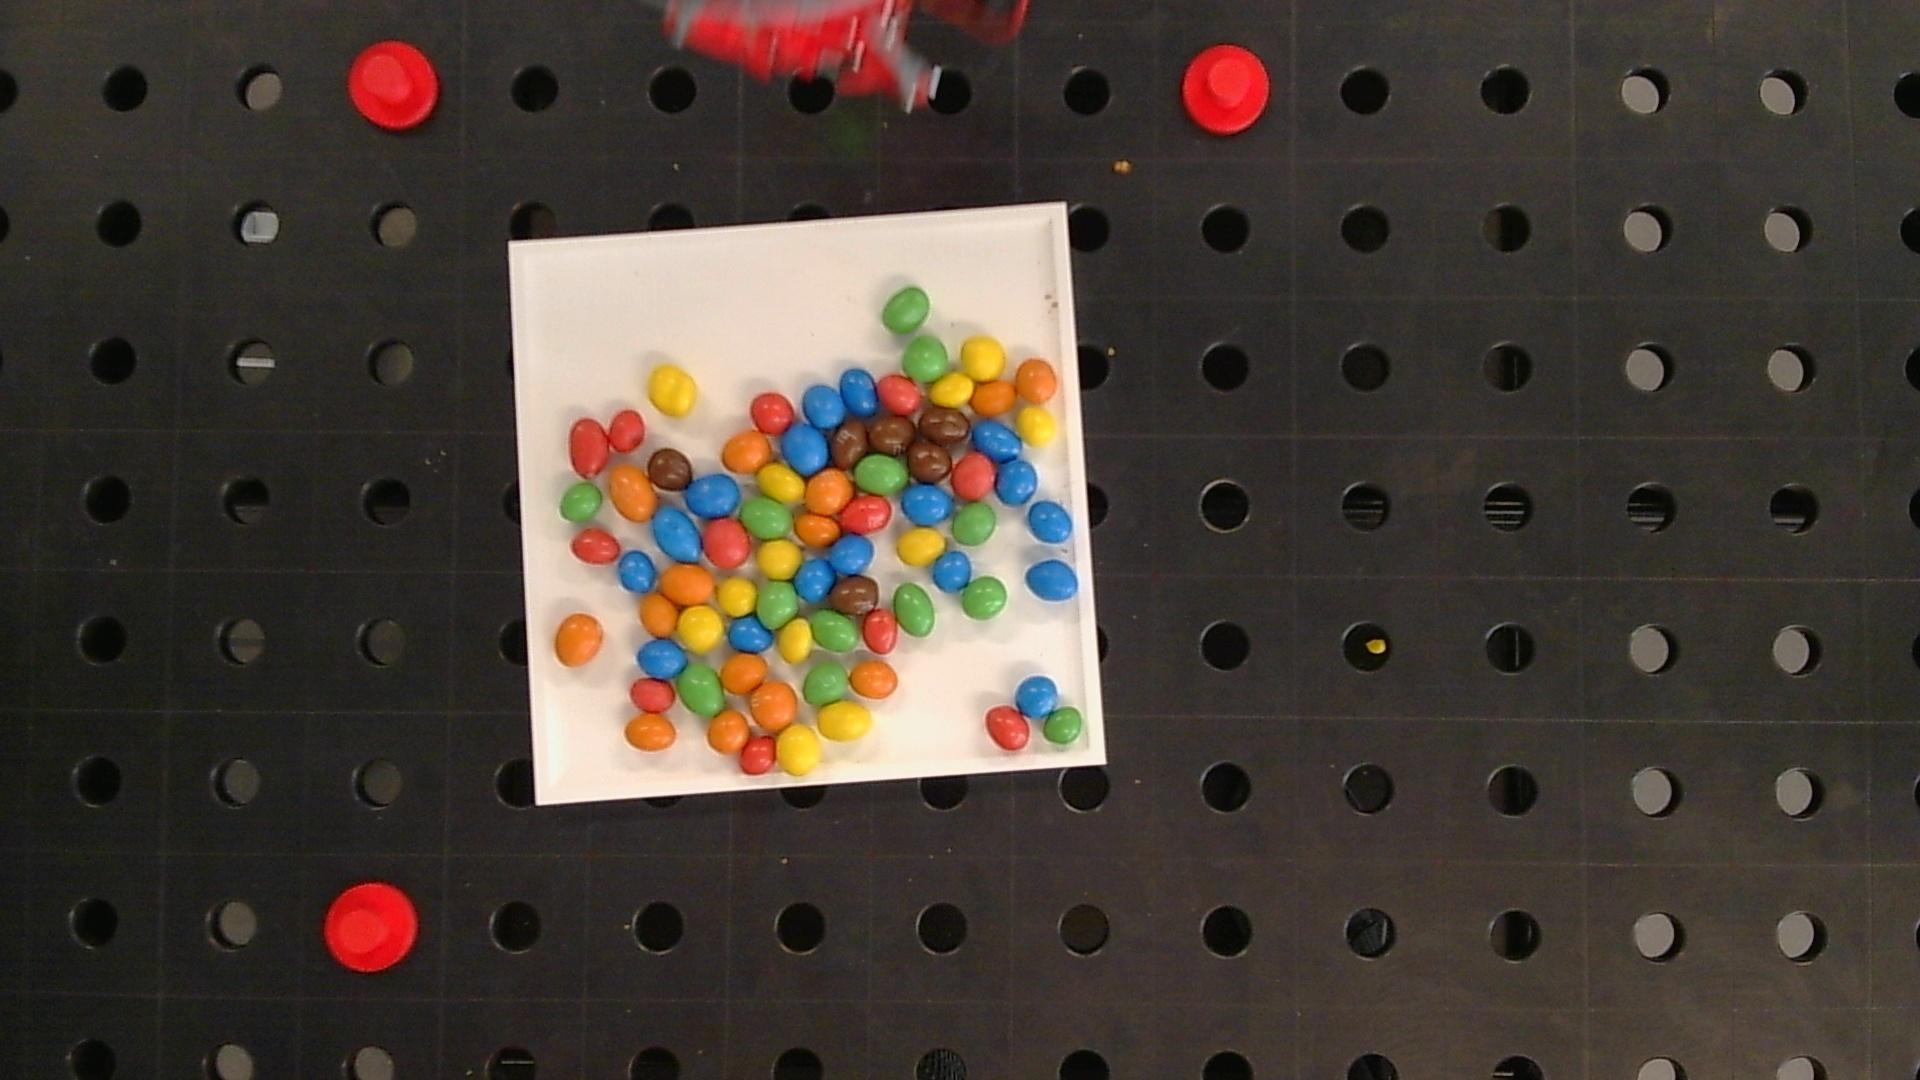blue: (654, 508, 702, 562), (686, 473, 741, 517), (782, 425, 828, 473), (1026, 559, 1079, 601), (901, 485, 953, 524), (972, 422, 1021, 462), (1029, 501, 1072, 545), (840, 369, 880, 415), (638, 638, 686, 676), (997, 460, 1038, 504), (831, 533, 874, 574), (803, 385, 844, 427), (1017, 675, 1059, 716), (795, 558, 835, 601), (728, 615, 773, 651), (932, 551, 971, 591), (618, 551, 655, 592)
brown: (647, 447, 692, 491), (919, 406, 969, 443), (909, 440, 952, 483), (870, 415, 915, 454), (832, 419, 868, 467), (833, 578, 878, 615)
green: (679, 663, 724, 715), (893, 583, 935, 637), (855, 454, 909, 493), (741, 497, 793, 538), (884, 287, 928, 334), (903, 336, 948, 381), (961, 576, 1007, 620), (811, 611, 858, 651), (953, 502, 997, 546), (803, 662, 848, 704), (758, 582, 799, 628), (559, 483, 603, 522), (1043, 707, 1085, 746)
orange: (609, 465, 657, 521), (555, 613, 603, 665), (750, 680, 796, 731), (661, 566, 715, 604), (806, 469, 852, 512), (723, 431, 771, 471), (624, 715, 676, 750), (1015, 359, 1058, 402), (707, 711, 749, 753), (721, 654, 766, 694), (851, 661, 898, 698), (969, 380, 1017, 415), (641, 592, 678, 636), (795, 513, 840, 546)
red: (568, 418, 608, 476), (703, 520, 750, 566), (985, 705, 1030, 749), (951, 455, 994, 498), (877, 375, 923, 414), (841, 496, 890, 533), (752, 392, 795, 433), (571, 529, 620, 563), (608, 409, 645, 451), (630, 678, 675, 712), (864, 609, 897, 653), (740, 737, 777, 774)
yellow: (647, 365, 696, 415), (816, 702, 872, 741), (777, 725, 820, 774), (679, 607, 724, 651), (961, 338, 1006, 380), (757, 539, 802, 580), (758, 463, 804, 501), (898, 529, 944, 564), (1018, 406, 1056, 446), (778, 620, 814, 662), (716, 578, 756, 615), (930, 373, 972, 405)
